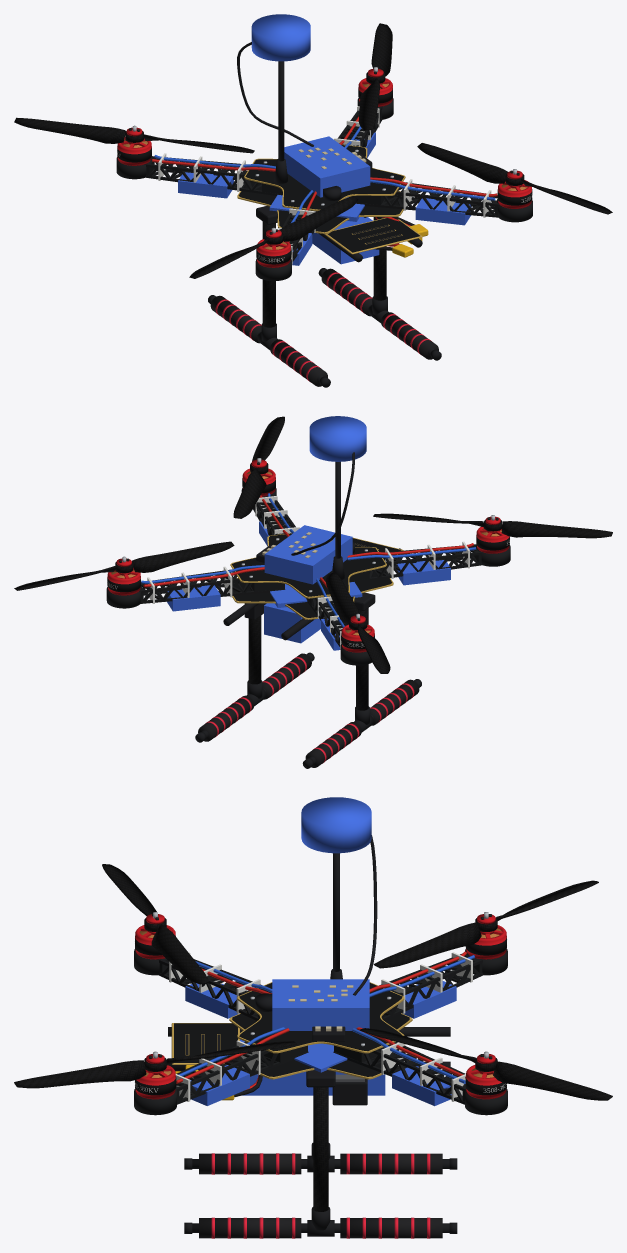
The model's file is drone01.glb.
3 views of the same model, one above another, from view 1: azimuth 30°, elevation 25°; view 2: azimuth 150°, elevation 25°; view 3: azimuth 270°, elevation 25° (orthographic). The views are drawn at different scales.
Visible parts, largest first — view 1: bay_fc, bay_power, bay_gps, top_plate, arm_LF, arm_RB, mount_plate, rotor_RB_b0, rotor_LF_b0, rotor_RF_b0, bottom_plate, gear_foam_R-1 (+15 smaller); view 2: bay_fc, bay_power, bay_gps, top_plate, arm_LB, arm_RF, rotor_RF_b1, bay_battery, rotor_LB_b1, bottom_plate, gear_leg_L, rotor_RB_b1 (+15 smaller); view 3: bay_power, bay_fc, bay_gps, top_plate, arm_LB, arm_LF, gear_leg_L, rotor_LF_b1, gear_foam_R+1, gear_foam_R-1, mount_plate, rotor_LB_b0 (+18 smaller).
Boxes of the visible parts, box(x1,y1,x2,y2) form: bay_fc: box(284, 136, 370, 197); bay_power: box(178, 132, 471, 265); bay_gps: box(251, 14, 310, 61); top_plate: box(245, 145, 403, 209); arm_LF: box(353, 182, 499, 217); arm_RB: box(144, 156, 282, 195); mount_plate: box(327, 217, 419, 252); rotor_RB_b0: box(14, 117, 125, 143); rotor_LF_b0: box(417, 143, 507, 183); rotor_RF_b0: box(279, 196, 358, 241); bottom_plate: box(238, 182, 403, 232); gear_foam_R-1: box(270, 339, 327, 386); bay_fc: box(264, 525, 352, 584); bay_power: box(167, 521, 450, 650); bay_gps: box(309, 416, 366, 461); top_plate: box(231, 533, 385, 596); arm_LB: box(139, 569, 285, 603); arm_RF: box(349, 544, 483, 582); rotor_RF_b1: box(501, 521, 612, 538); bay_battery: box(264, 603, 320, 643); rotor_LB_b1: box(132, 541, 234, 572); bottom_plate: box(232, 569, 392, 617); gear_leg_L: box(248, 616, 261, 684); rotor_RB_b1: box(326, 572, 358, 624); bay_power: box(185, 981, 456, 1106); bay_fc: box(272, 979, 369, 1030); bay_gps: box(301, 797, 371, 853); top_plate: box(239, 983, 402, 1051); arm_LB: box(333, 1041, 466, 1104); arm_LF: box(175, 1041, 308, 1104); gear_leg_L: box(313, 1087, 328, 1211); rotor_LF_b1: box(14, 1060, 146, 1088); gear_foam_R+1: box(340, 1153, 442, 1174); gear_foam_R-1: box(199, 1153, 301, 1174); mount_plate: box(174, 1023, 237, 1062); rotor_LB_b0: box(493, 1061, 612, 1100).
Bounding box in the file's own units: 0.5732 × 0.4213 × 0.6144.
Materials: 25 (1 with a texture image).
